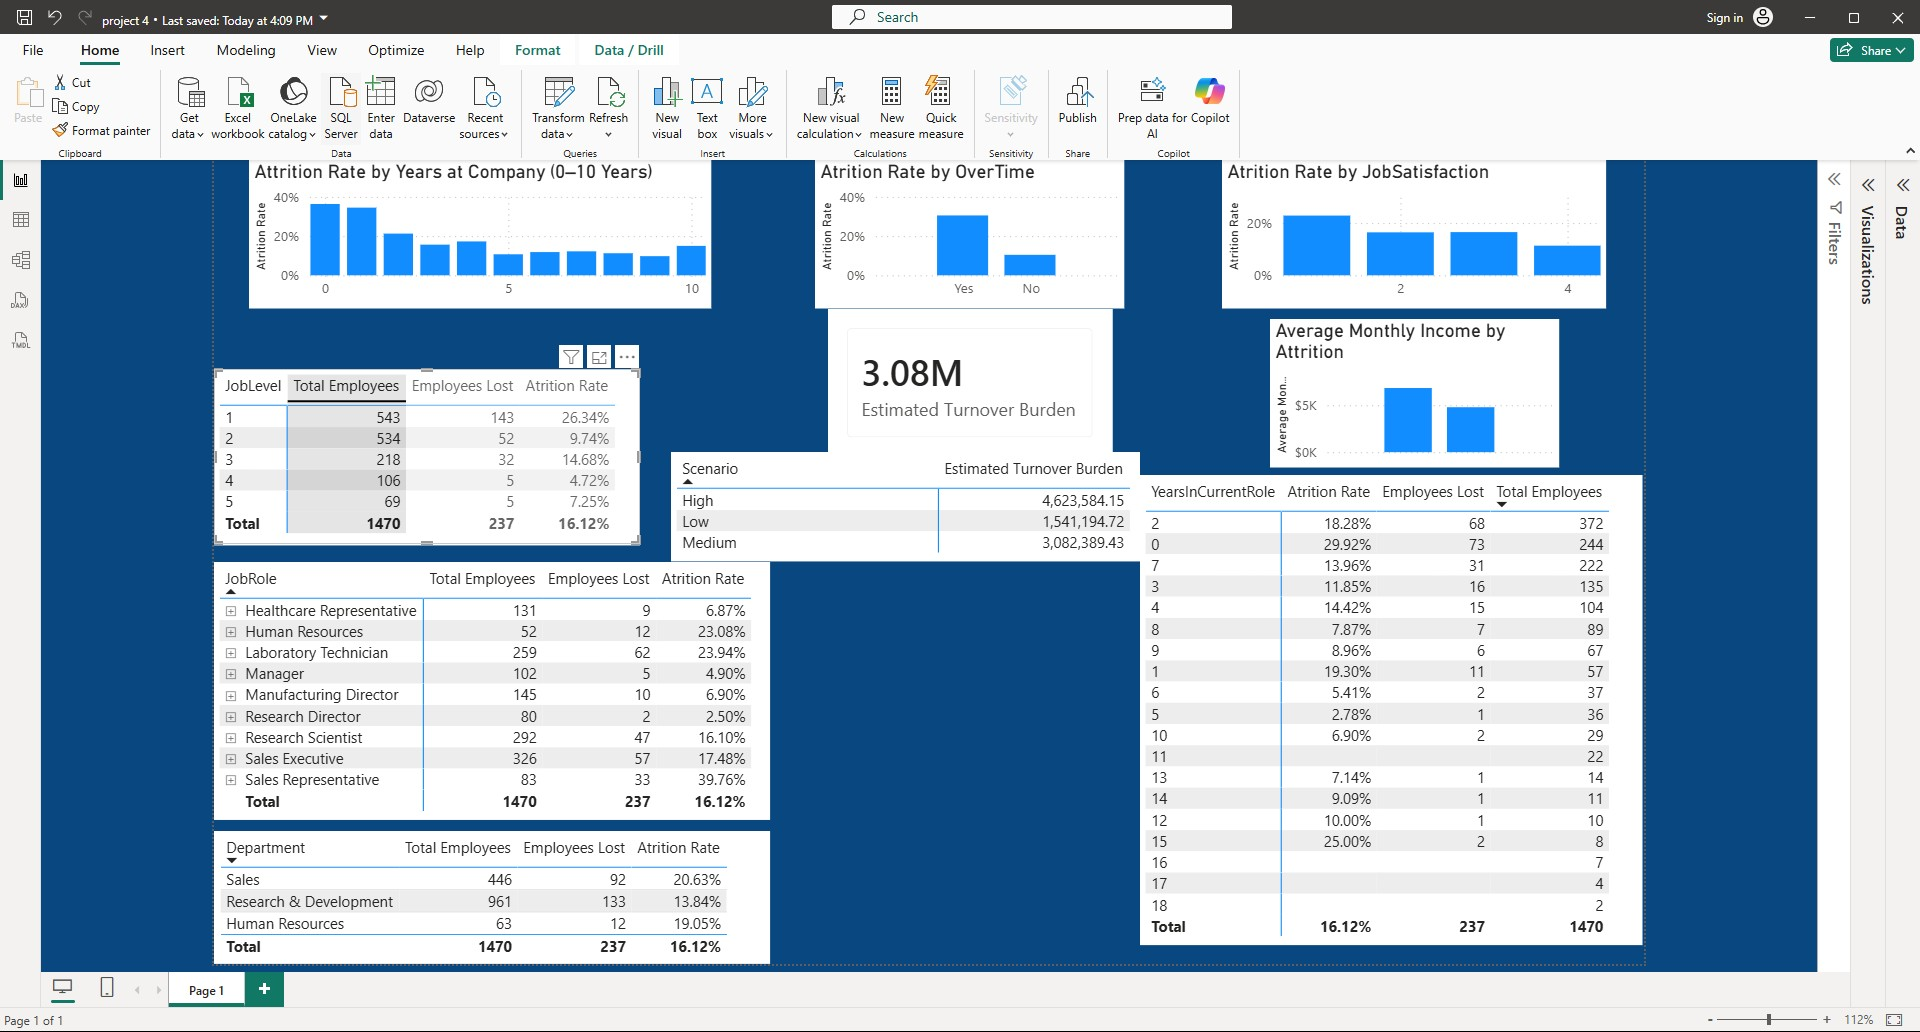

This screenshot's page, from the dashboard's own definition file:
{"tool":"powerbi","page":{"name":"Page 1","canvas":[1280,720],"ordinal":0},"visuals":[{"type":"tableEx","fields":{"Values":["HR_Analytics csv.Department","HR_Analytics csv.Total Employees","HR_Analytics csv.Employees Lost","HR_Analytics csv.Atrition Rate"]},"box":[0,601.1,498,118.7],"z":0},{"type":"pivotTable","fields":{"Values":["HR_Analytics csv.Total Employees","HR_Analytics csv.Employees Lost","HR_Analytics csv.Atrition Rate"],"Rows":["HR_Analytics csv.JobRole","HR_Analytics csv.Department"]},"box":[0,359.9,498,230.5],"z":1000},{"type":"pivotTable","fields":{"Values":["HR_Analytics csv.Estimated Turnover Burden"],"Rows":["Turnover Scenario.Scenario"]},"box":[409.5,261.6,420.2,98.2],"z":3000},{"type":"cardVisual","fields":{"Data":["HR_Analytics csv.Estimated Turnover Burden"]},"box":[549.5,133.3,254.8,132.3],"z":4000},{"type":"clusteredColumnChart","fields":{"Category":["HR_Analytics csv.OverTime"],"Y":["HR_Analytics csv.Atrition Rate"]},"box":[537.9,0,277.2,133.3],"z":5000},{"type":"clusteredColumnChart","title":"Attrition Rate by Years at Company (0–10 Years)","fields":{"Y":["HR_Analytics csv.Atrition Rate","select"],"Category":["HR_Analytics csv.YearsAtCompany"]},"box":[31.1,0,414.3,133.3],"z":6000},{"type":"clusteredColumnChart","fields":{"Y":["HR_Analytics csv.Atrition Rate"],"Category":["HR_Analytics csv.JobSatisfaction"]},"box":[902.6,0,344.3,133.3],"z":7000},{"type":"clusteredColumnChart","fields":{"Y":["HR_Analytics csv.Average Monthly Income"],"Category":["HR_Analytics csv.Attrition"]},"box":[945.4,142,258.7,133.3],"z":8000},{"type":"pivotTable","fields":{"Values":["HR_Analytics csv.Total Employees","HR_Analytics csv.Employees Lost","HR_Analytics csv.Atrition Rate"],"Rows":["HR_Analytics csv.JobLevel"]},"box":[0,186.7,381.3,157.6],"z":9000},{"type":"pivotTable","fields":{"Values":["HR_Analytics csv.Atrition Rate","HR_Analytics csv.Employees Lost","HR_Analytics csv.Total Employees"],"Rows":["HR_Analytics csv.YearsInCurrentRole"]},"box":[829.7,282.1,450.3,421.2],"z":10000}]}

Visuals, with their boxes on the page's 1280x720 design canvas (x1, y1, x2, y2). These are canvas units, not pixel positions in the 1920x1032 screenshot, which may show the page scaled, cropped or inside an application window:
tableEx - HR_Analytics csv.Department x HR_Analytics csv.Total Employees: <bbox>0, 601, 498, 720</bbox>
pivotTable - HR_Analytics csv.Total Employees x HR_Analytics csv.Employees Lost: <bbox>0, 360, 498, 590</bbox>
pivotTable - HR_Analytics csv.Estimated Turnover Burden x Turnover Scenario.Scenario: <bbox>410, 262, 830, 360</bbox>
cardVisual - HR_Analytics csv.Estimated Turnover Burden: <bbox>550, 133, 804, 266</bbox>
clusteredColumnChart - HR_Analytics csv.OverTime x HR_Analytics csv.Atrition Rate: <bbox>538, 0, 815, 133</bbox>
"Attrition Rate by Years at Company (0–10 Years)" clusteredColumnChart: <bbox>31, 0, 445, 133</bbox>
clusteredColumnChart - HR_Analytics csv.Atrition Rate x HR_Analytics csv.JobSatisfaction: <bbox>903, 0, 1247, 133</bbox>
clusteredColumnChart - HR_Analytics csv.Average Monthly Income x HR_Analytics csv.Attrition: <bbox>945, 142, 1204, 275</bbox>
pivotTable - HR_Analytics csv.Total Employees x HR_Analytics csv.Employees Lost: <bbox>0, 187, 381, 344</bbox>
pivotTable - HR_Analytics csv.Atrition Rate x HR_Analytics csv.Employees Lost: <bbox>830, 282, 1280, 703</bbox>
